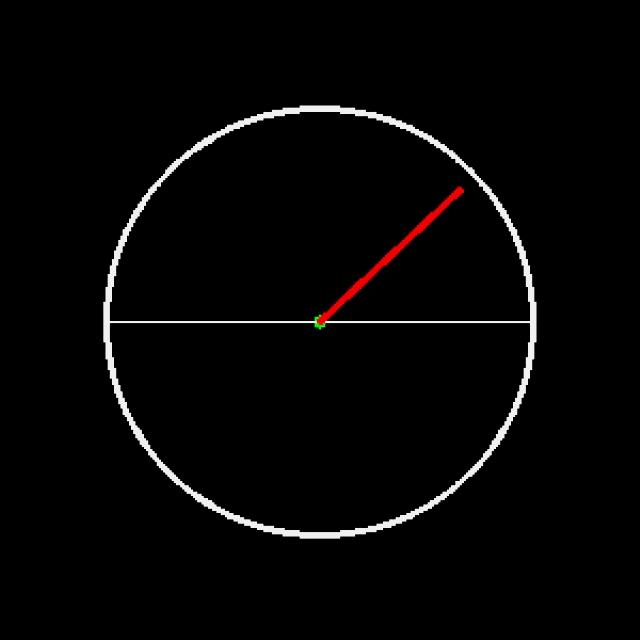Needle_Tip: (441, 172, 483, 218)
Needle_base: (284, 299, 357, 361)
